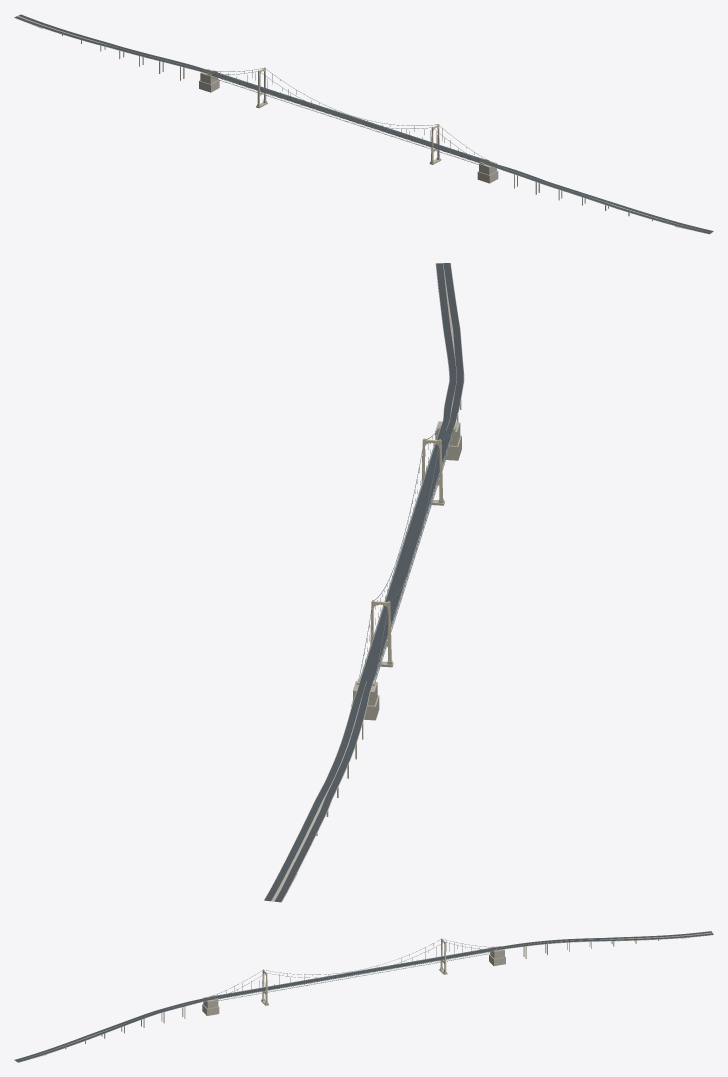
Rendered from pont-pierre-laporte-far.glb.
The picture shows the model from 3 angles, top to bottom: view 1: azimuth 30°, elevation 25°; view 2: azimuth 150°, elevation 25°; view 3: azimuth 270°, elevation 25°; orthographic projection. The views are drawn at different scales.
Visible parts, largest first — view 1: pont-pierre-laporte-0-asphalt, pont-pierre-laporte-0-concrete, pont-pierre-laporte-0-steel, pont-pierre-laporte-0-cable, pont-pierre-laporte-0-tower; view 2: pont-pierre-laporte-0-asphalt, pont-pierre-laporte-0-concrete, pont-pierre-laporte-0-steel; view 3: pont-pierre-laporte-0-asphalt, pont-pierre-laporte-0-concrete, pont-pierre-laporte-0-steel, pont-pierre-laporte-0-cable, pont-pierre-laporte-0-tower.
Part boxes in pixels (bbox=[...]): pont-pierre-laporte-0-asphalt: bbox=[14, 14, 713, 233]; pont-pierre-laporte-0-concrete: bbox=[14, 15, 712, 234]; pont-pierre-laporte-0-steel: bbox=[212, 72, 484, 164]; pont-pierre-laporte-0-cable: bbox=[212, 68, 484, 161]; pont-pierre-laporte-0-tower: bbox=[257, 67, 439, 161]; pont-pierre-laporte-0-asphalt: bbox=[264, 263, 463, 902]; pont-pierre-laporte-0-concrete: bbox=[264, 263, 464, 902]; pont-pierre-laporte-0-steel: bbox=[360, 430, 453, 680]; pont-pierre-laporte-0-asphalt: bbox=[14, 931, 713, 1062]; pont-pierre-laporte-0-concrete: bbox=[18, 931, 713, 1062]; pont-pierre-laporte-0-steel: bbox=[215, 948, 493, 1000]; pont-pierre-laporte-0-cable: bbox=[216, 939, 493, 998]; pont-pierre-laporte-0-tower: bbox=[262, 938, 446, 1002].
Size of the model in its own units: 1077 by 123 by 2421.
